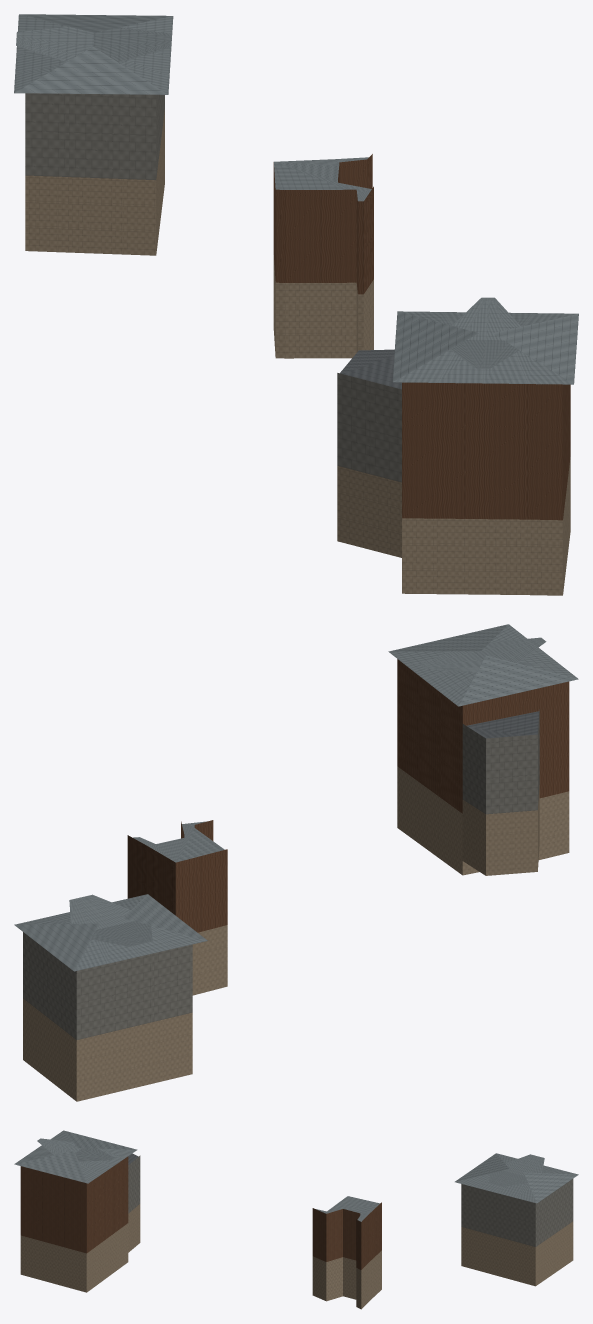
Rendered from bld_c-23_11_545.gltf.
3 renders of one model, top to bottom at view 1: azimuth 30°, elevation 25°; view 2: azimuth 150°, elevation 25°; view 3: azimuth 270°, elevation 25°, orthographic. The views are drawn at different scales.
Parts seen in each view (by area): view 1: bld_c-23_11_545; view 2: bld_c-23_11_545; view 3: bld_c-23_11_545.
Boxes of the visible parts, box(x1,y1,x2,y2) form: bld_c-23_11_545: box(14, 14, 578, 595); bld_c-23_11_545: box(14, 624, 578, 1101); bld_c-23_11_545: box(14, 1130, 578, 1309).
Bounding box in the file's own units: 19.04 × 15.5 × 66.6.
Materials: 7 (7 with a texture image).
